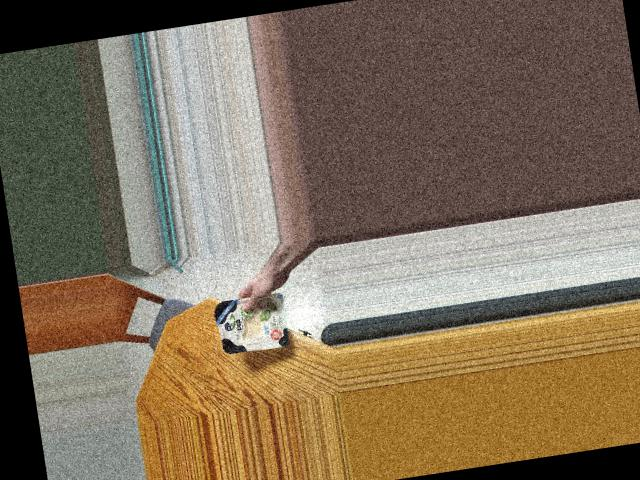cheese: (212, 287, 294, 355)
